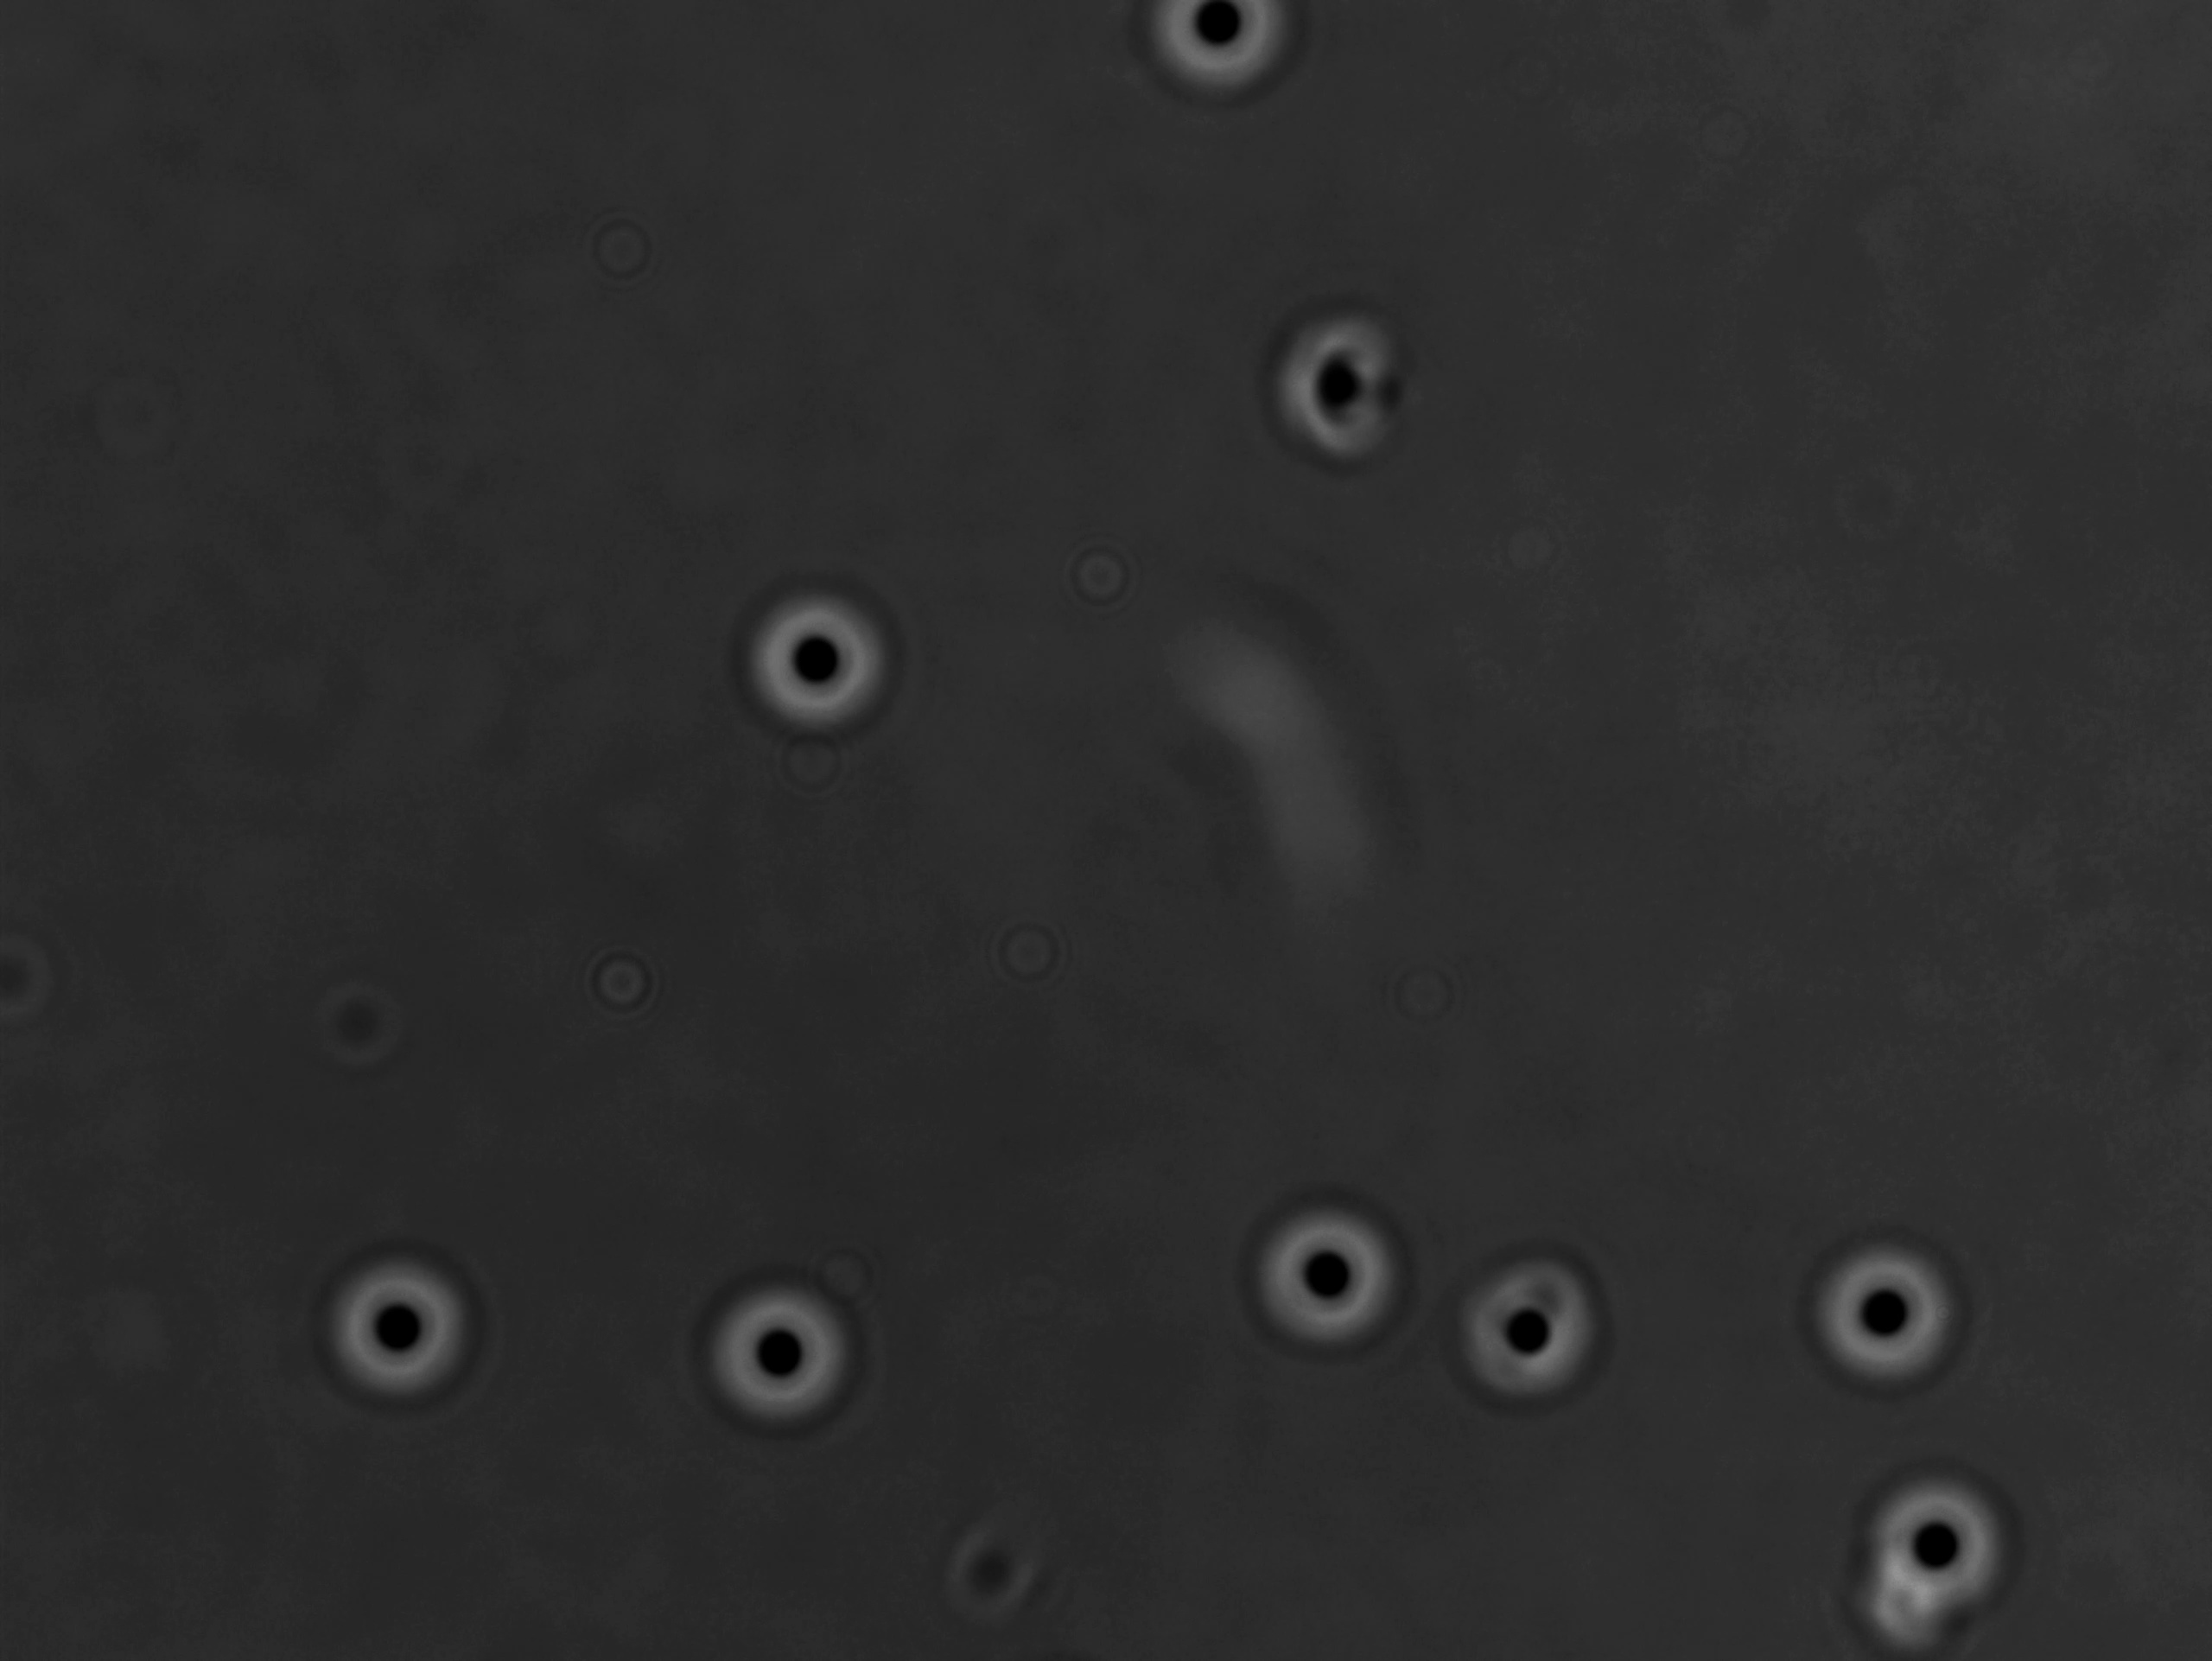depth:-40: (1792, 1228, 1968, 1405), (1446, 1246, 1617, 1424), (323, 1244, 502, 1408), (700, 1270, 867, 1434), (1240, 1195, 1404, 1361), (738, 584, 907, 743)
